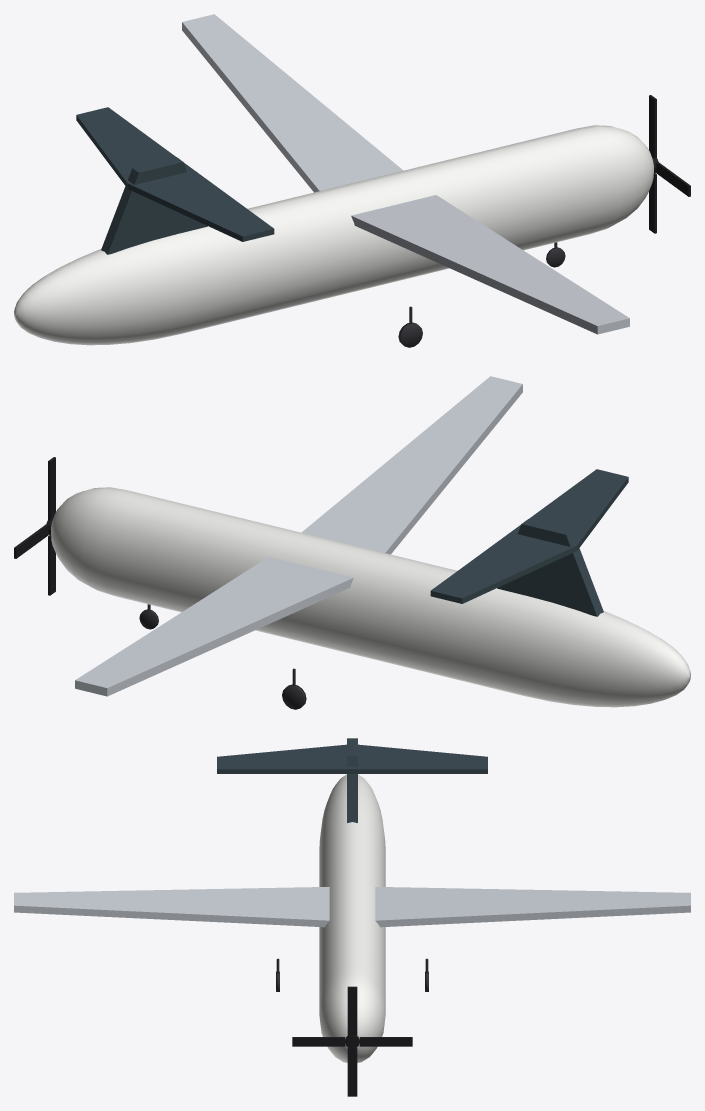
3 views of the same model, one above another, from view 1: azimuth 30°, elevation 25°; view 2: azimuth 150°, elevation 25°; view 3: azimuth 270°, elevation 25° (orthographic). The views are drawn at different scales.
Visible parts, largest first — view 1: fuselage, wings, tail, propellers, gear; view 2: fuselage, wings, tail, propellers, gear; view 3: wings, fuselage, tail, propellers.
Part boxes in pixels (box(x1,y1,x2,y2)): fuselage: box(14, 125, 653, 345); wings: box(182, 14, 629, 334); tail: box(76, 107, 274, 254); propellers: box(649, 95, 690, 233); gear: box(398, 242, 565, 347); fuselage: box(51, 487, 690, 707); wings: box(75, 376, 522, 696); tail: box(430, 469, 628, 616); propellers: box(14, 457, 55, 595); gear: box(139, 604, 306, 709); wings: box(14, 887, 690, 927); fuselage: box(319, 774, 385, 1062); tail: box(217, 738, 487, 822); propellers: box(292, 986, 412, 1096).
Size of the model in its own units: 14.49 by 4.29 by 16.3.
